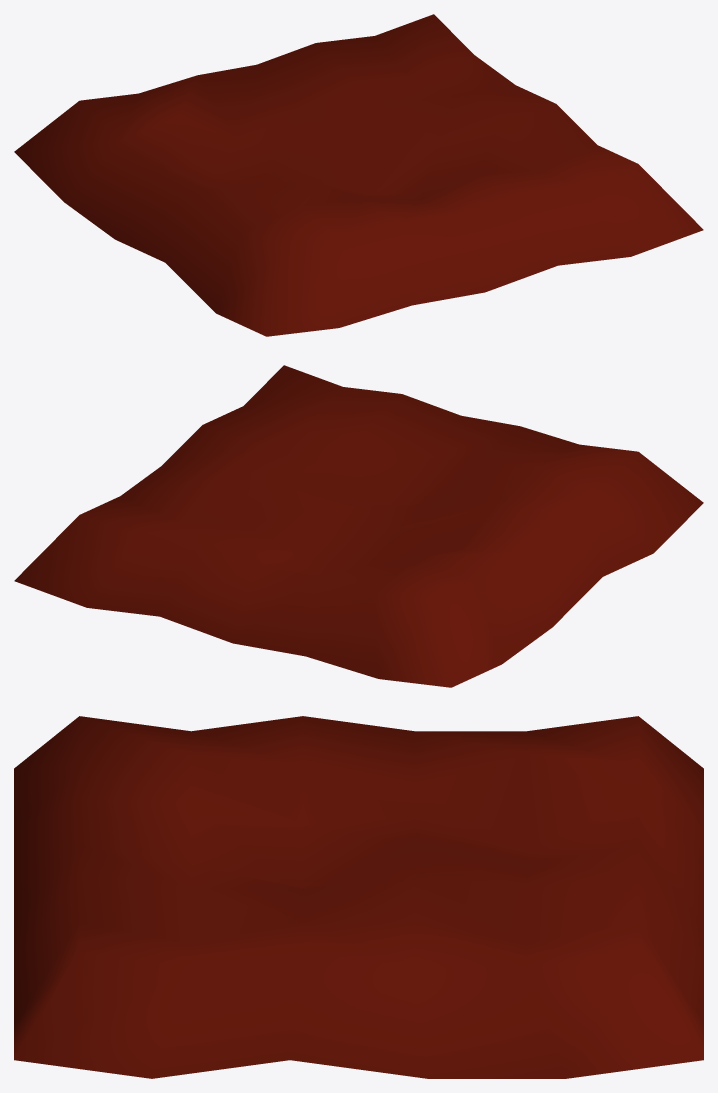
File: IronOreResource.fbx
3 renders of one model, top to bottom at view 1: azimuth 30°, elevation 25°; view 2: azimuth 150°, elevation 25°; view 3: azimuth 270°, elevation 25°, orthographic. The views are drawn at different scales.
Parts seen in each view (by area): view 1: M; view 2: M; view 3: M.
Part boxes in pixels (x1=…): M: x1=14, y1=14, x2=703, y2=336; M: x1=14, y1=365, x2=703, y2=687; M: x1=14, y1=716, x2=703, y2=1078.
Size of the model in its own units: 123 by 19.73 by 123.
